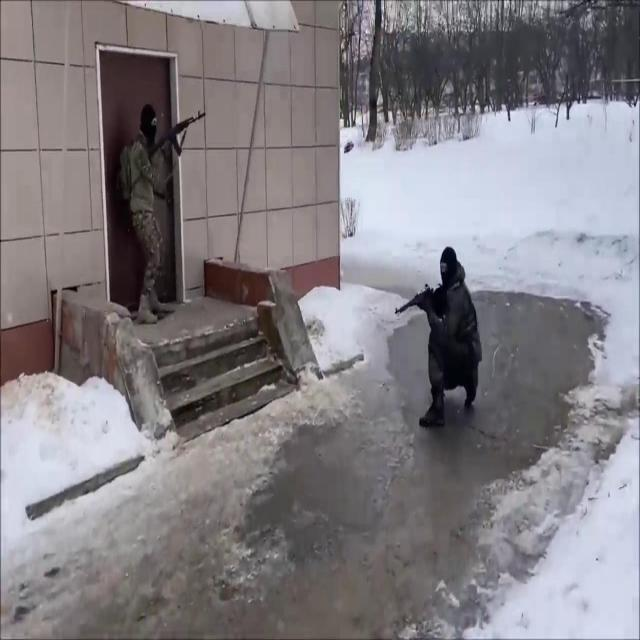pistol: (147, 110, 206, 161), (394, 282, 444, 315)
